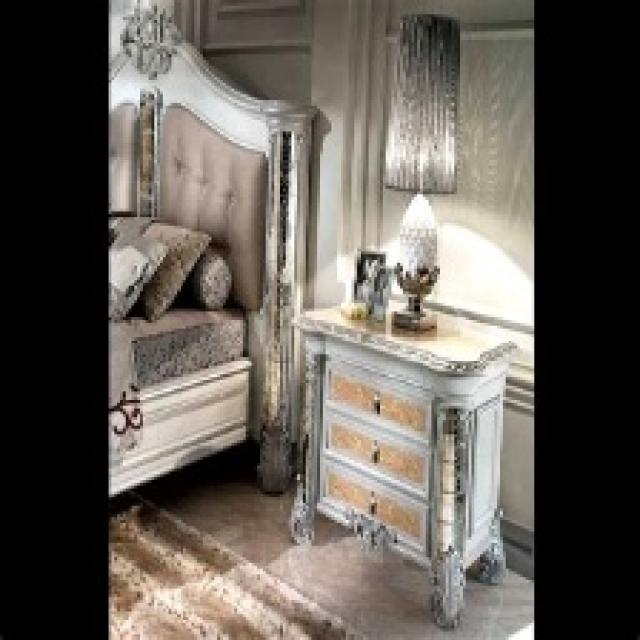Bed: (106, 0, 320, 500)
